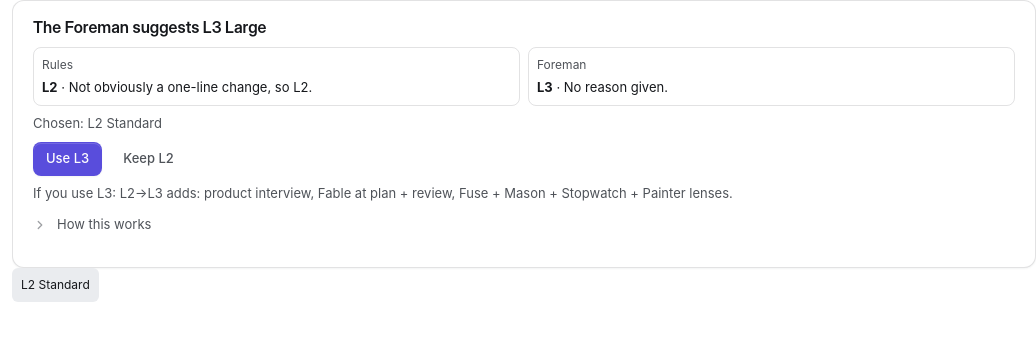
Test: LevelCard › shows the dashboard’s refusal
The image size is (1036, 347).
Click the button "Use L3" at x=68, y=159, box [33,142,102,176]
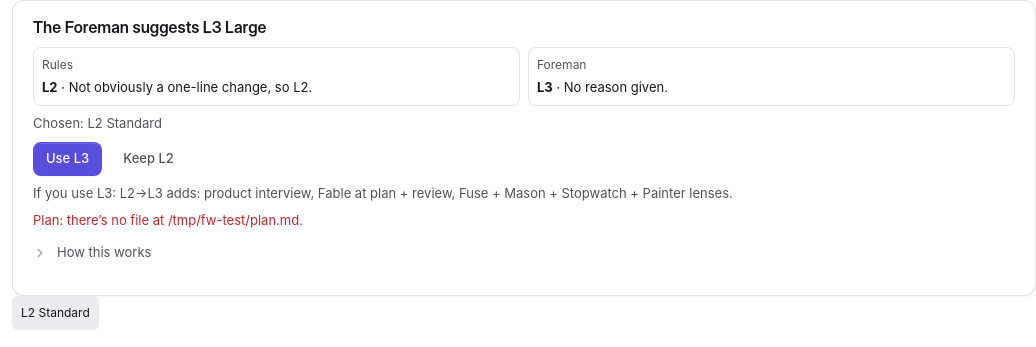
Now the message shows "there’s no file at", box [33,212,303,228]
